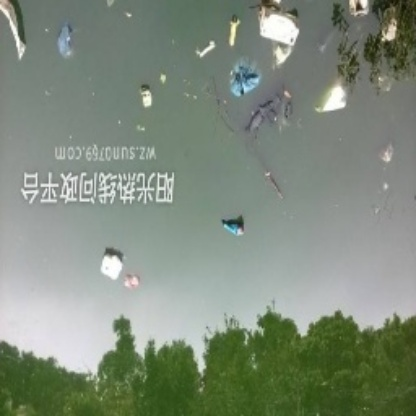plastic-bag: (228, 54, 266, 101)
